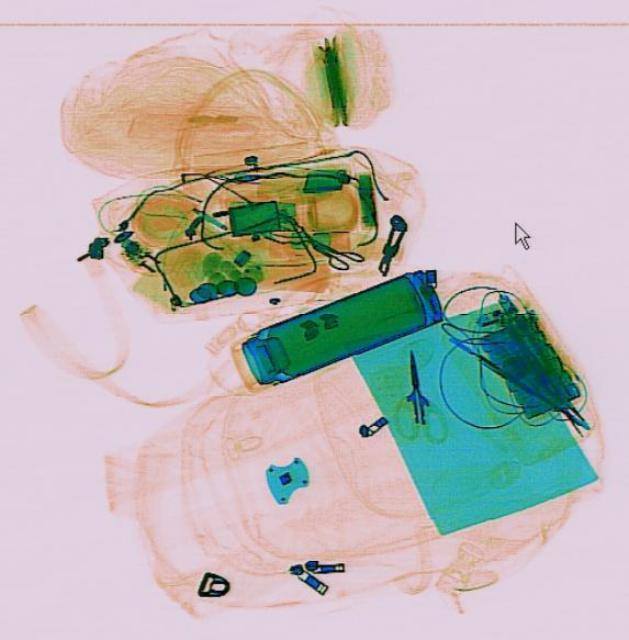Knife: (397, 346, 427, 424)
